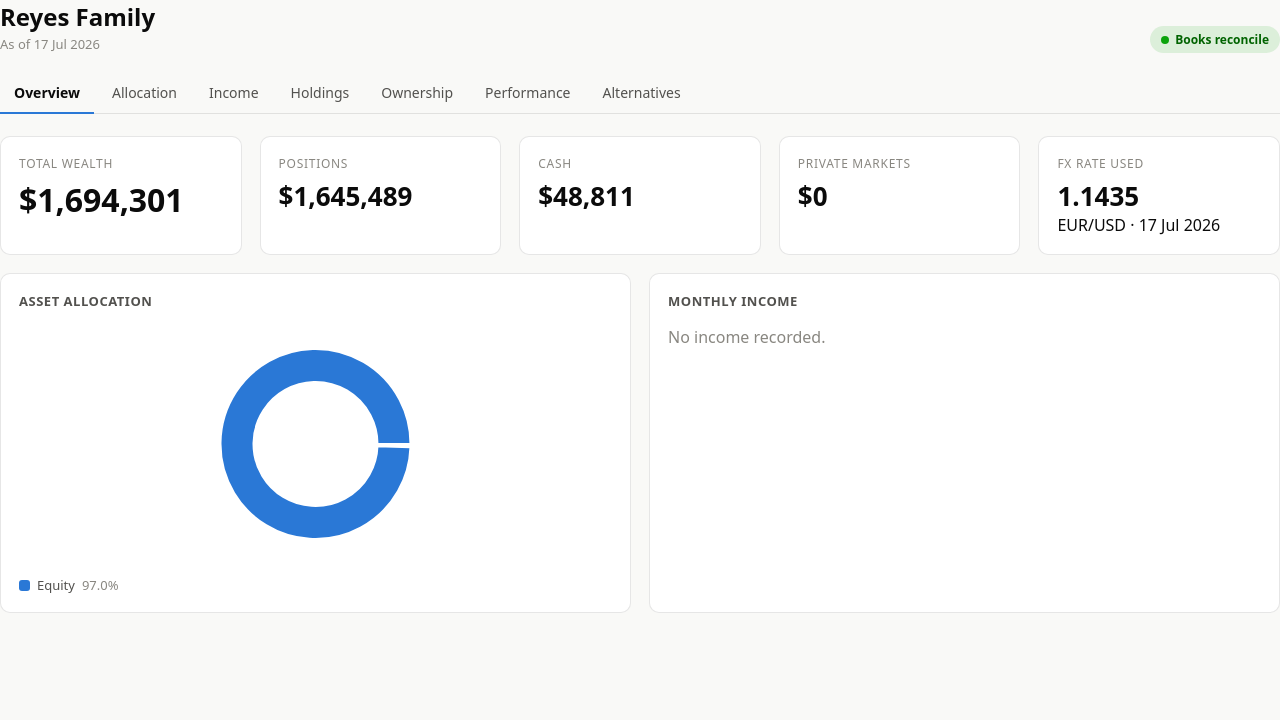
Test case: ClientDashboard › shows the three since-inception methodologies on the performance tab
The image size is (1280, 720).
Click the tab "Performance" at coordinates (528, 94), box top-left (471, 73), bottom-right (584, 114)
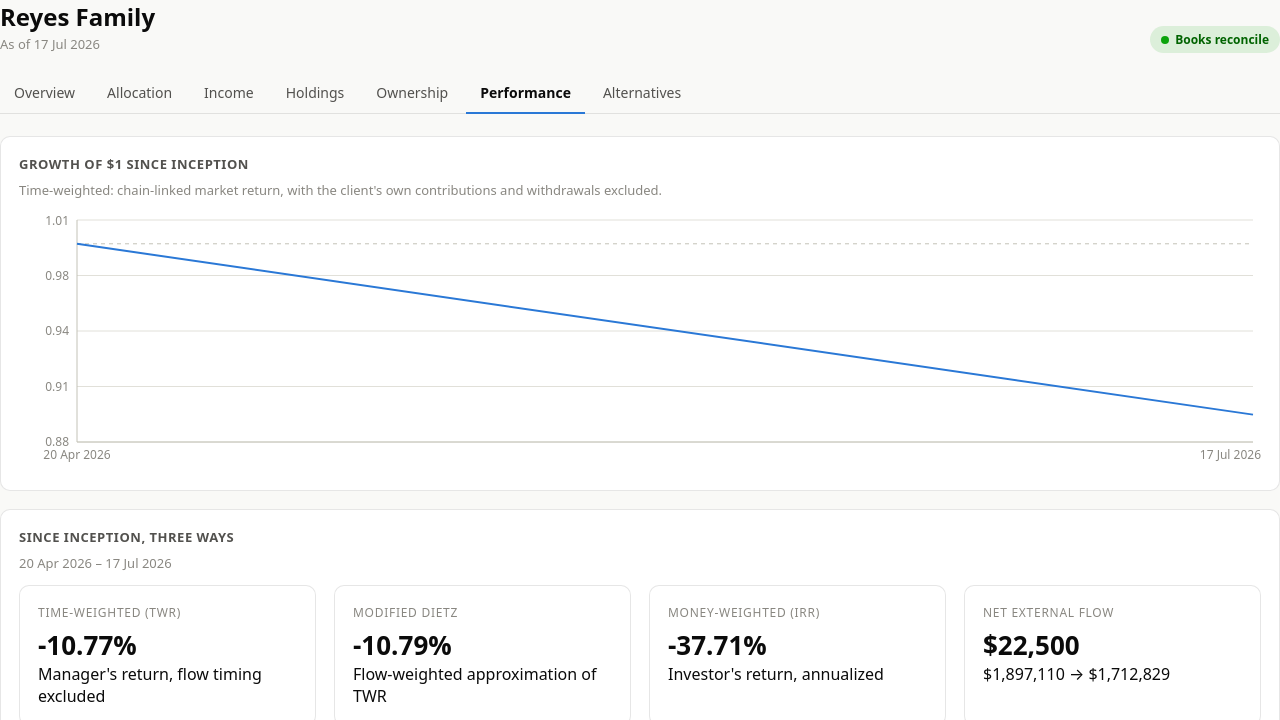
Now the text "-10.77%" is shown, box top-left (38, 627), bottom-right (137, 663)
Now the text "-10.79%" is shown, box top-left (353, 627), bottom-right (452, 663)
Now the text "-37.71%" is shown, box top-left (668, 627), bottom-right (767, 663)
